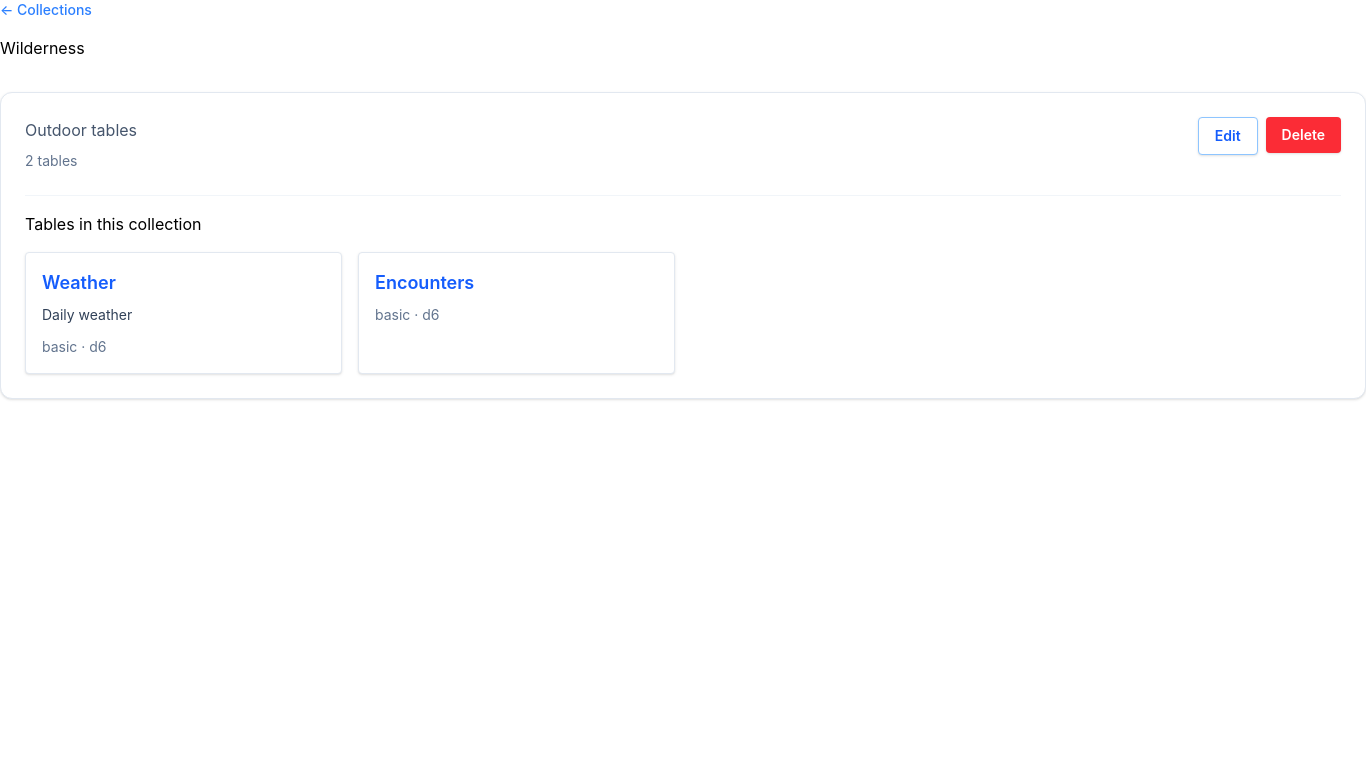
it: CollectionShow › closes delete modal on cancel
Click the button "Delete": {"x": 1303, "y": 135} x1=1266 y1=117 x2=1341 y2=153
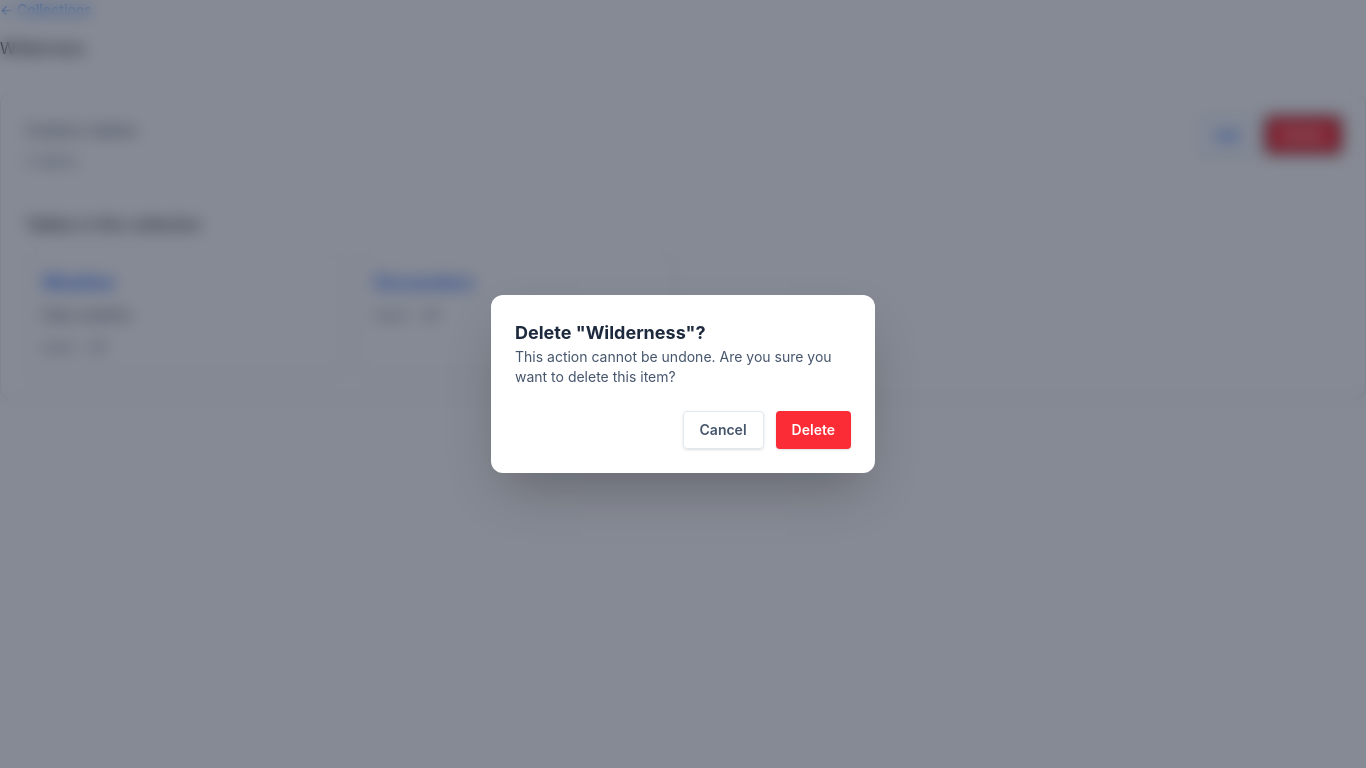
Expected: the dialog is shown
Click the button "Cancel": {"x": 723, "y": 430} x1=682 y1=411 x2=764 y2=449
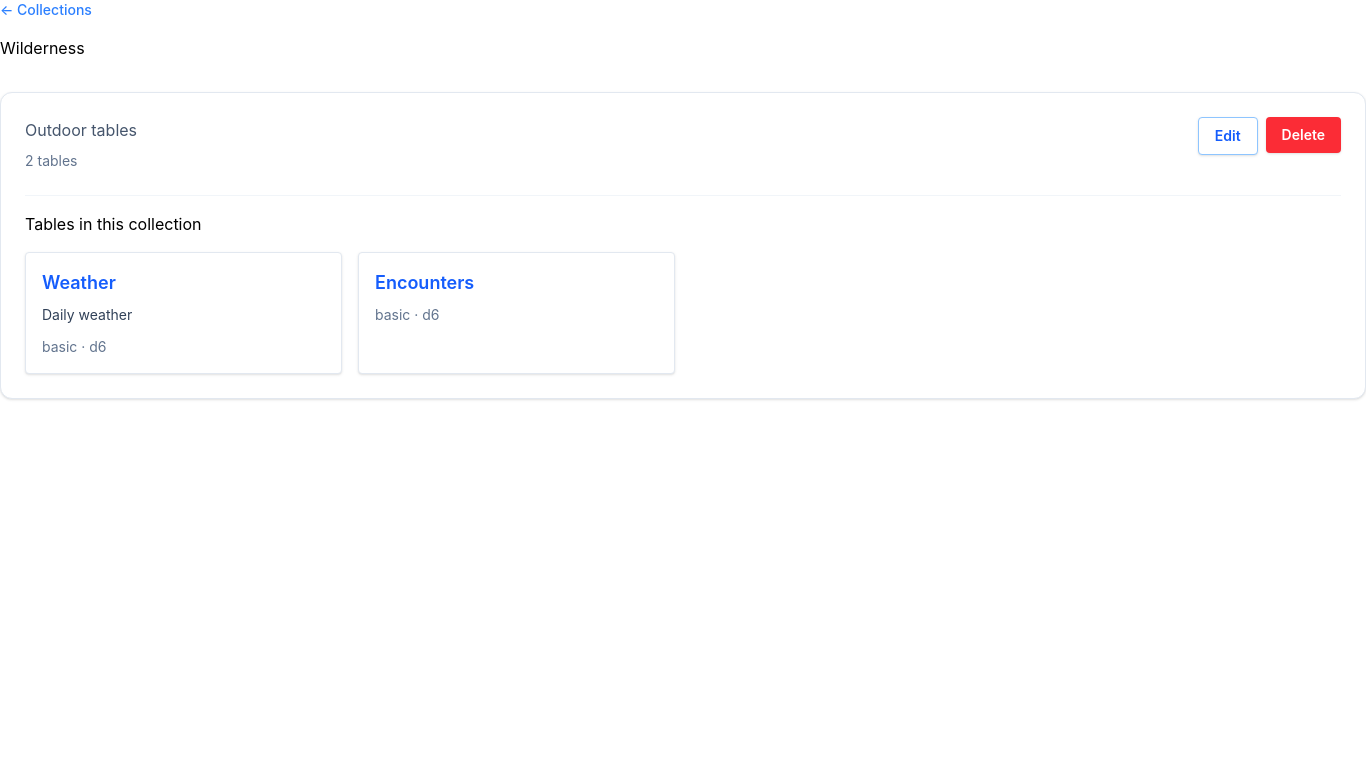
Expected: the dialog is gone
